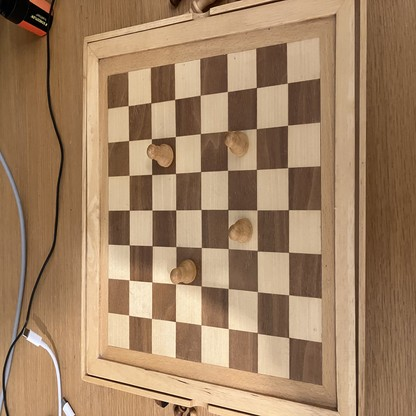pawn_white: (229, 218, 253, 244), (225, 131, 248, 157), (147, 144, 173, 167), (172, 261, 197, 284)
